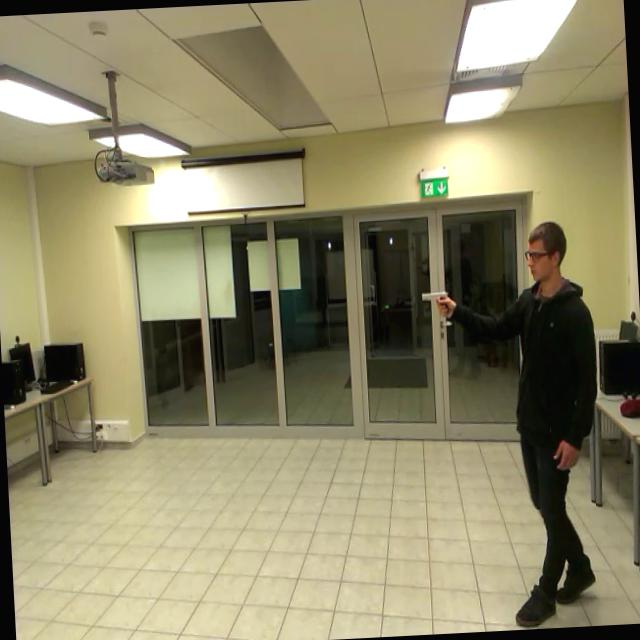handgun: (420, 273, 459, 335)
